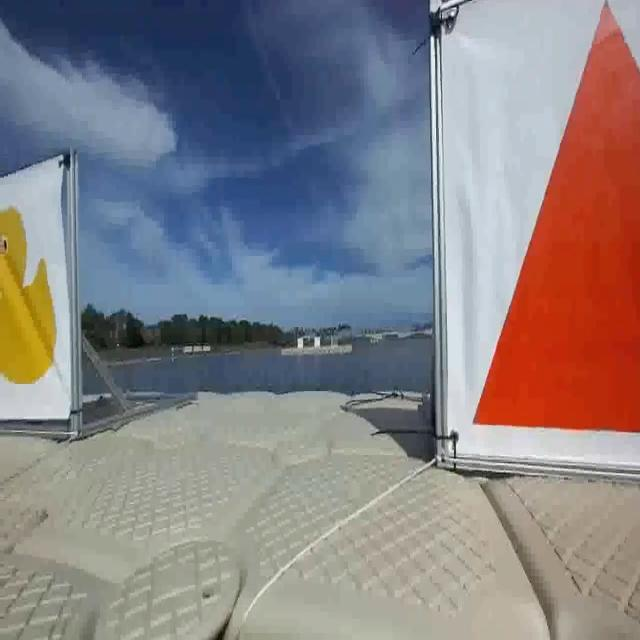red-dot: (434, 22, 640, 480)
yellow-duck: (0, 174, 83, 430)
